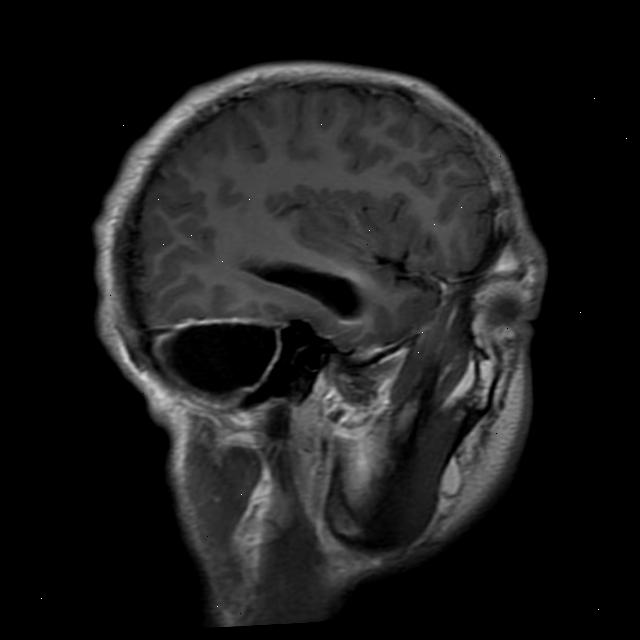Glioma: (146, 305, 288, 415)
